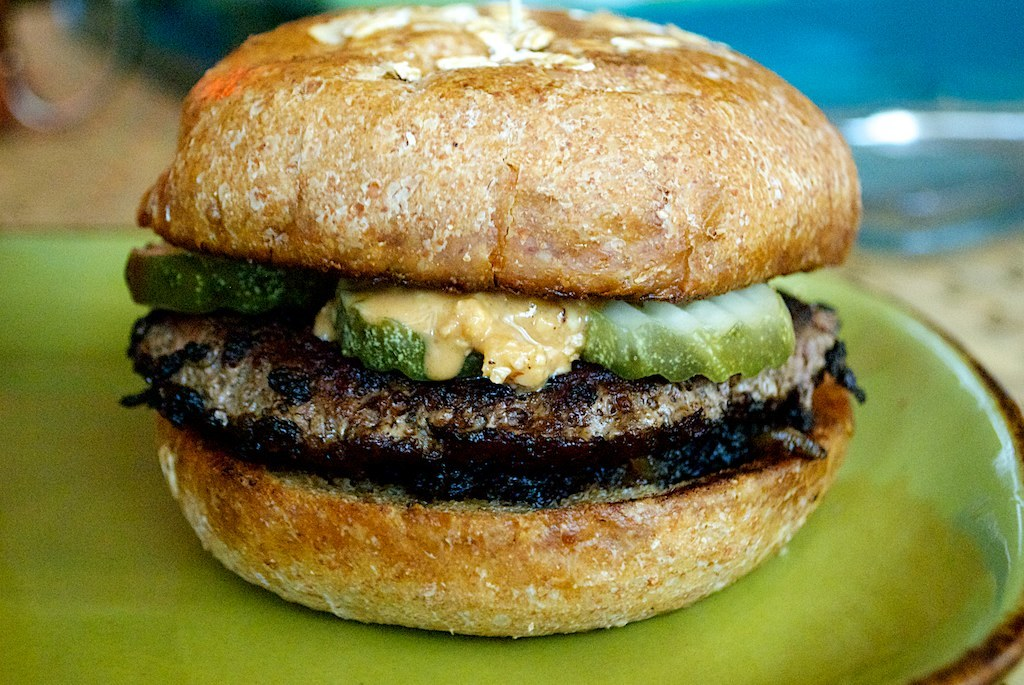Hamburger: (117, 1, 871, 636)
